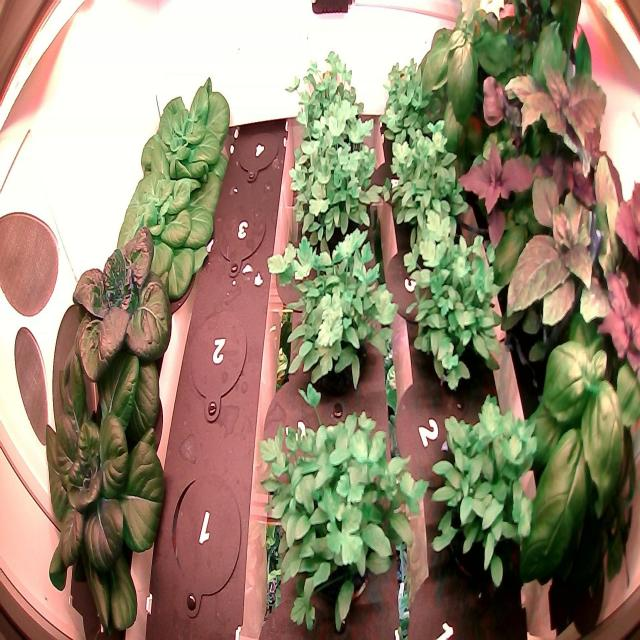empty_pod: (164, 462, 248, 622), (183, 298, 252, 433), (213, 191, 271, 283), (233, 114, 282, 188)
young: (39, 336, 176, 638), (62, 216, 180, 422), (111, 172, 221, 301), (138, 76, 233, 182)
